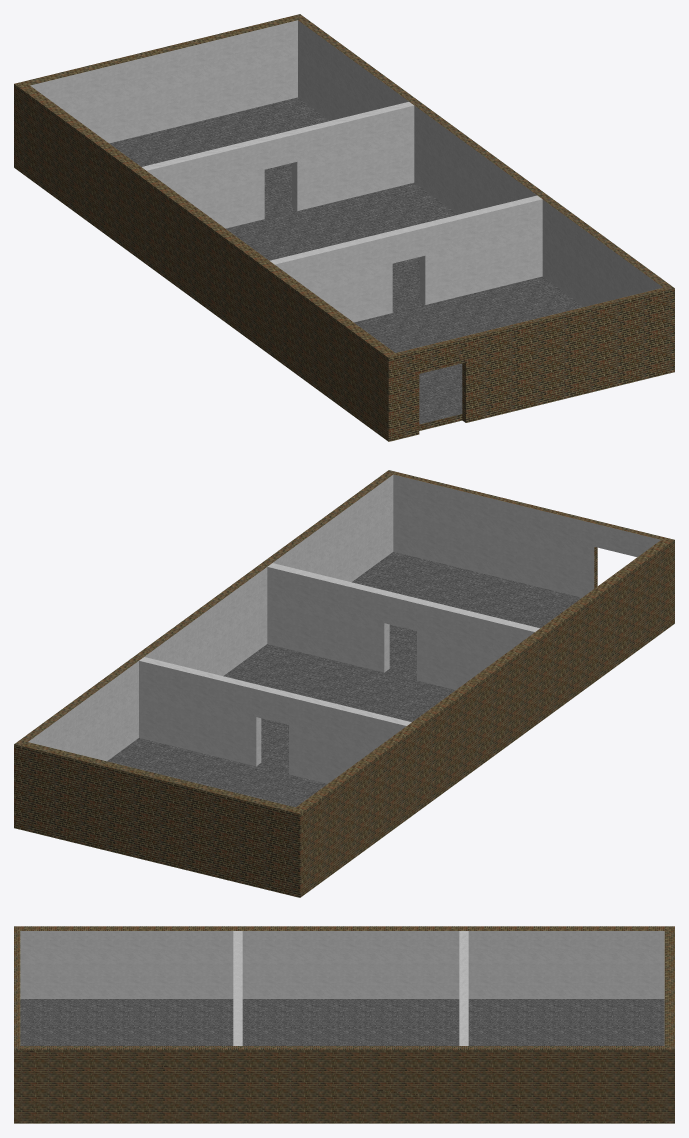
The model's file is museum.gltf.
3 views of the same model, one above another, from view 1: azimuth 30°, elevation 25°; view 2: azimuth 150°, elevation 25°; view 3: azimuth 270°, elevation 25° (orthographic). The views are drawn at different scales.
Parts seen in each view (by area): view 1: root; view 2: root; view 3: root.
Boxes of the visible parts, x1,y1,x2,y2 form: root: (14, 14, 674, 441); root: (14, 470, 674, 897); root: (14, 926, 674, 1123).
Size of the model in its own units: 32.52 by 9.1 by 73.76.
5 materials, 4 textured.
